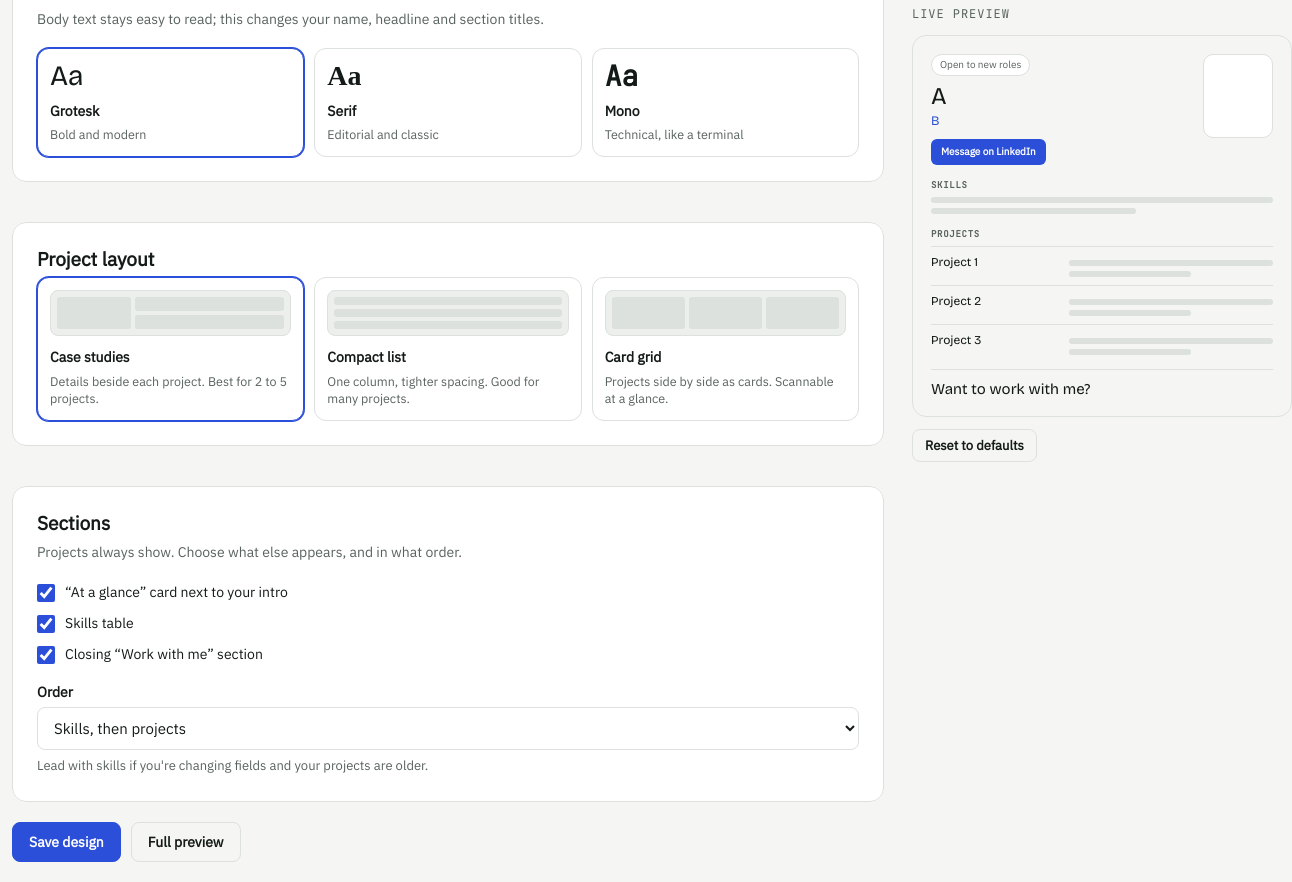
DesignForm › disables the order when skills are hidden but still submits the saved order
(page scrolled)
Expected: the dropdown labelled "Order" is enabled, left=37, top=707, right=859, bottom=750
What coordinates should you click on to do the following:
click the checkbox labelled "Skills table"
I would click on:
 (46, 624)
Its box is left=37, top=615, right=55, bottom=633.
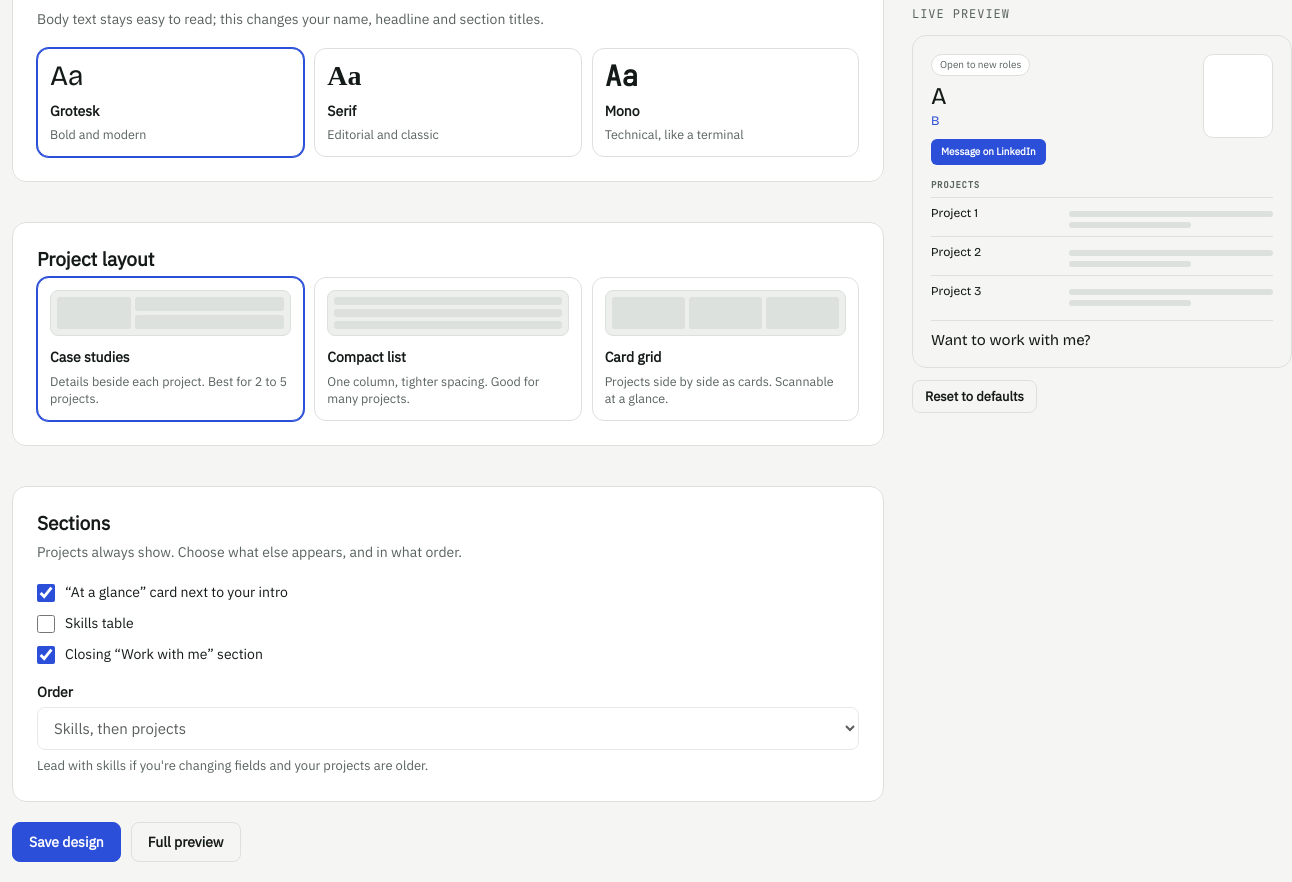
Expected: the element named "sectionOrder" holds "SKILLS_FIRST", left=37, top=683, right=859, bottom=777
Expected: the dropdown labelled "Order" is disabled, left=37, top=707, right=859, bottom=750
